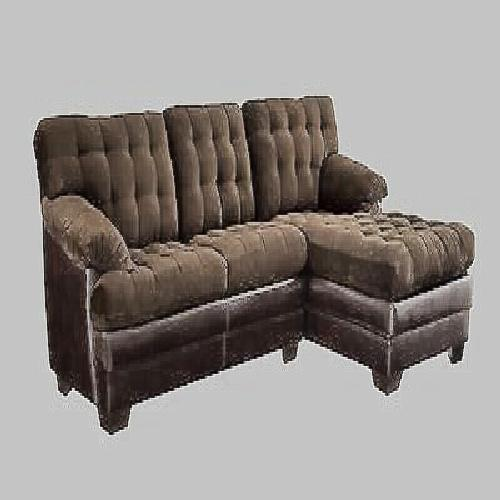sofa: (38, 97, 469, 397)
